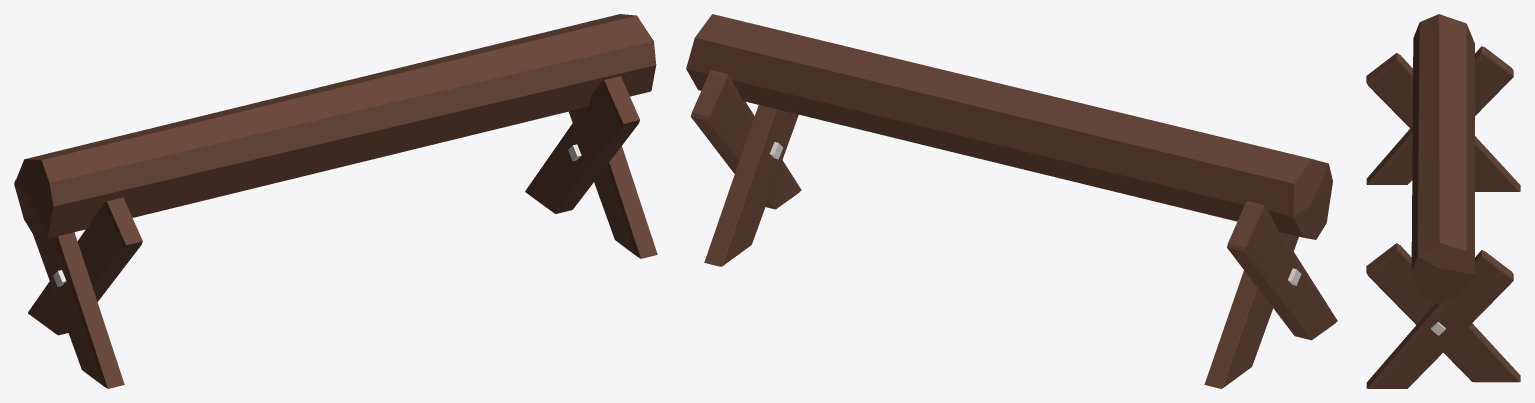
The model's file is WodenLog_2.fbx.
3 views of the same model, side by side, from view 1: azimuth 30°, elevation 25°; view 2: azimuth 150°, elevation 25°; view 3: azimuth 270°, elevation 25° (orthographic). The views are drawn at different scales.
Visible parts, largest first — view 1: WodenLog_2; view 2: WodenLog_2; view 3: WodenLog_2.
Boxes of the visible parts, x1,y1,x2,y2 form: WodenLog_2: (14, 14, 657, 388); WodenLog_2: (686, 14, 1337, 388); WodenLog_2: (1366, 14, 1520, 388).
Bounding box in the file's own units: 2.25 × 0.7088 × 0.6326.
